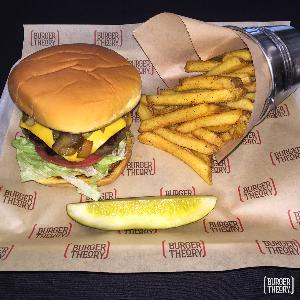cheeseburger_475cal: (6, 40, 144, 194)
fries_350cal: (151, 41, 260, 191)
